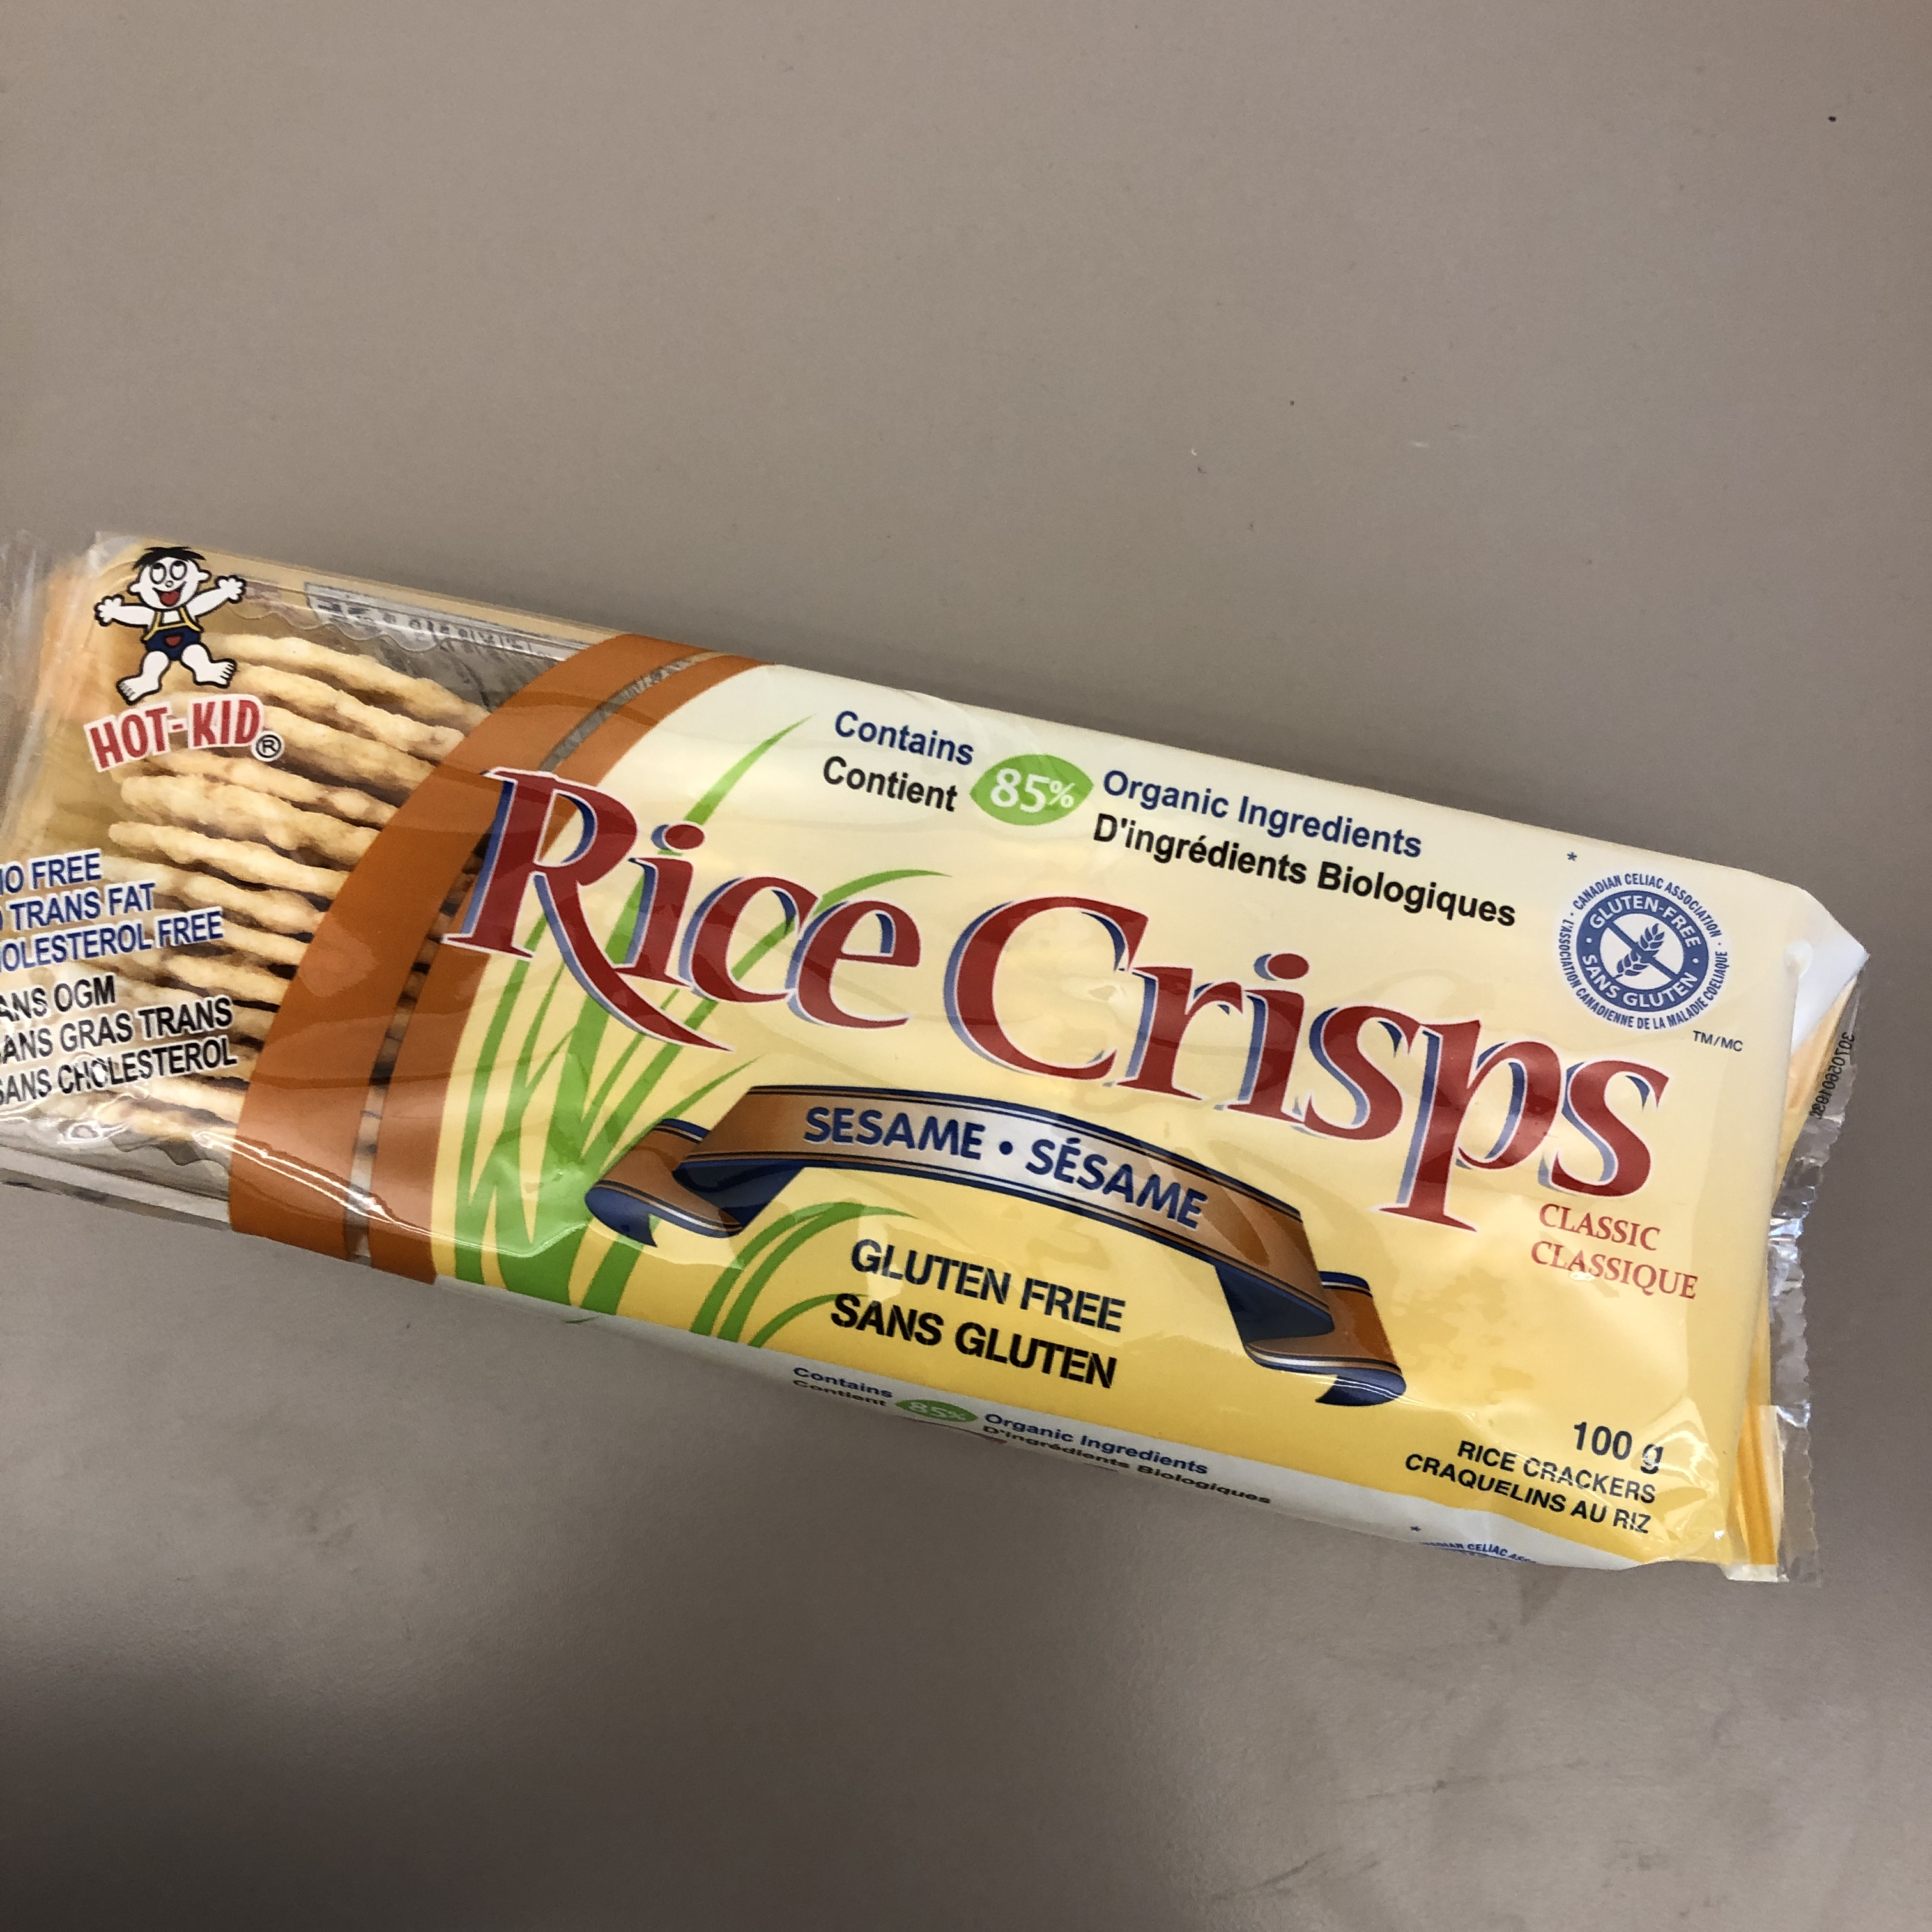hot_kid_rice_crisps_sesame: (577, 152, 1367, 1897)
